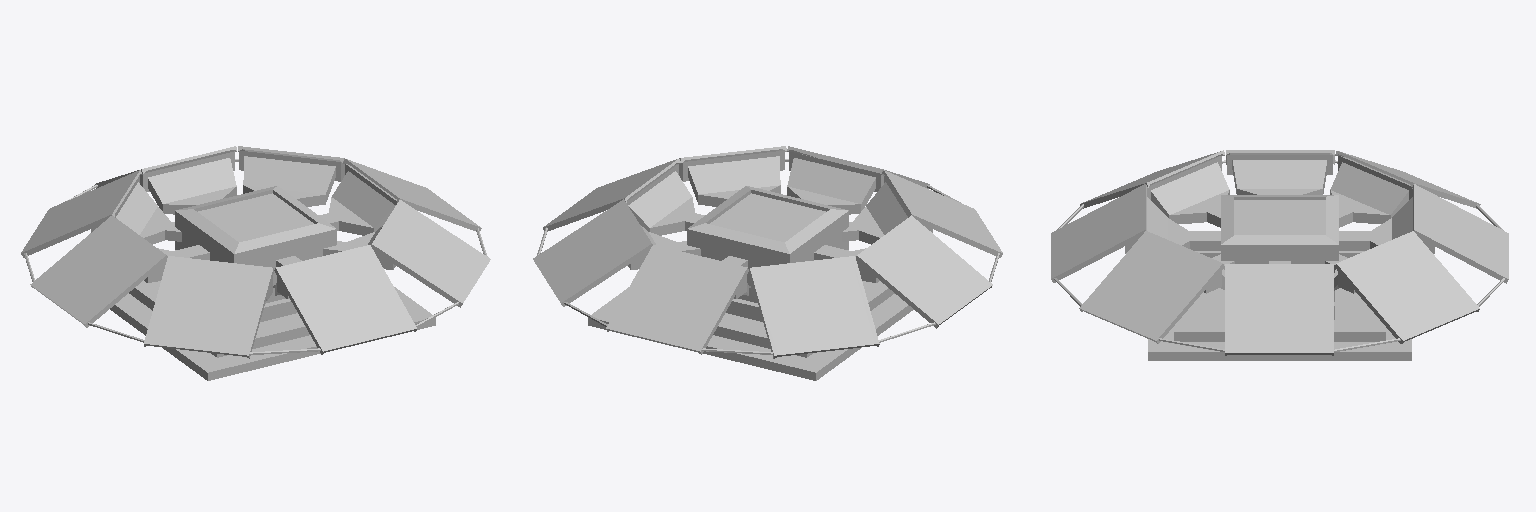
File: Solar StationOBJ.obj
3 renders of one model, left to right at view 1: azimuth 30°, elevation 25°; view 2: azimuth 150°, elevation 25°; view 3: azimuth 270°, elevation 25°, orthographic.
Parts seen in each view (by area): view 1: Box005, Box001, Plane018, Plane017, Plane019, Plane016, Plane020, Plane009, Plane015, Plane021; view 2: Box005, Box001, Plane020, Plane021, Plane019, Plane022, Plane018, Plane009, Plane015, Plane017; view 3: Box005, Box001, Plane015, Plane016, Plane022, Plane021, Plane017, Plane009, Plane020, Plane018, Plane019.
Boxes of the visible parts, x1=… form: Box005: x1=91, y1=151, x2=396, y2=300; Box001: x1=110, y1=186, x2=435, y2=380; Plane018: x1=144, y1=256, x2=273, y2=358; Plane017: x1=274, y1=245, x2=416, y2=354; Plane019: x1=30, y1=215, x2=167, y2=327; Plane016: x1=371, y1=200, x2=490, y2=307; Plane020: x1=21, y1=170, x2=142, y2=257; Plane009: x1=198, y1=188, x2=313, y2=241; Plane015: x1=343, y1=159, x2=481, y2=230; Plane021: x1=95, y1=146, x2=236, y2=188; Box005: x1=627, y1=151, x2=932, y2=300; Box001: x1=588, y1=186, x2=913, y2=380; Plane020: x1=749, y1=256, x2=879, y2=358; Plane021: x1=606, y1=245, x2=748, y2=354; Plane019: x1=856, y1=215, x2=992, y2=328; Plane022: x1=533, y1=199, x2=652, y2=306; Plane018: x1=881, y1=170, x2=1002, y2=257; Plane009: x1=709, y1=193, x2=825, y2=241; Plane015: x1=543, y1=159, x2=680, y2=230; Plane017: x1=787, y1=146, x2=929, y2=188; Box005: x1=1125, y1=155, x2=1434, y2=293; Box001: x1=1148, y1=195, x2=1411, y2=360; Plane015: x1=1225, y1=264, x2=1333, y2=355; Plane016: x1=1079, y1=231, x2=1224, y2=343; Plane022: x1=1335, y1=231, x2=1479, y2=343; Plane021: x1=1412, y1=184, x2=1508, y2=283; Plane017: x1=1051, y1=184, x2=1147, y2=282; Plane009: x1=1234, y1=200, x2=1325, y2=234; Plane020: x1=1335, y1=151, x2=1480, y2=208; Plane018: x1=1080, y1=150, x2=1224, y2=208; Plane019: x1=1226, y1=150, x2=1334, y2=164.
Size of the model in its own units: 210 by 49.67 by 210.